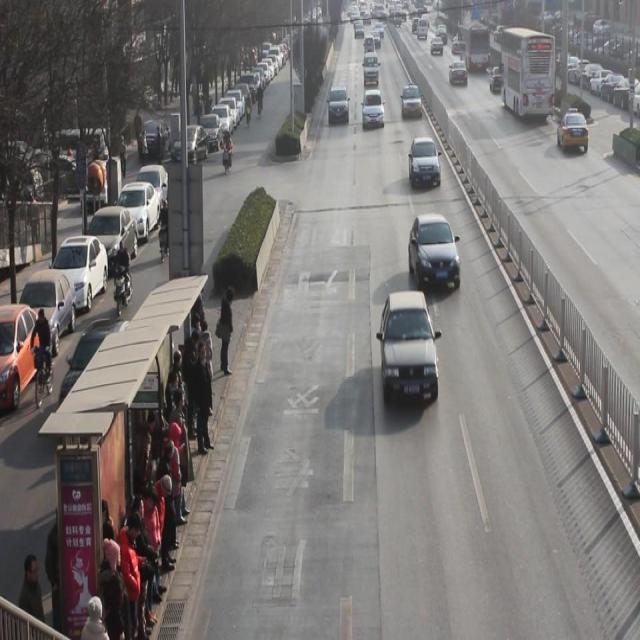car: (380, 291, 440, 402), (409, 213, 461, 293), (408, 136, 441, 190), (558, 111, 589, 156), (362, 89, 385, 129), (328, 85, 351, 124), (402, 84, 422, 120), (449, 60, 468, 86), (491, 66, 508, 94)
truck: (363, 51, 380, 88)
van: (499, 25, 552, 120)
